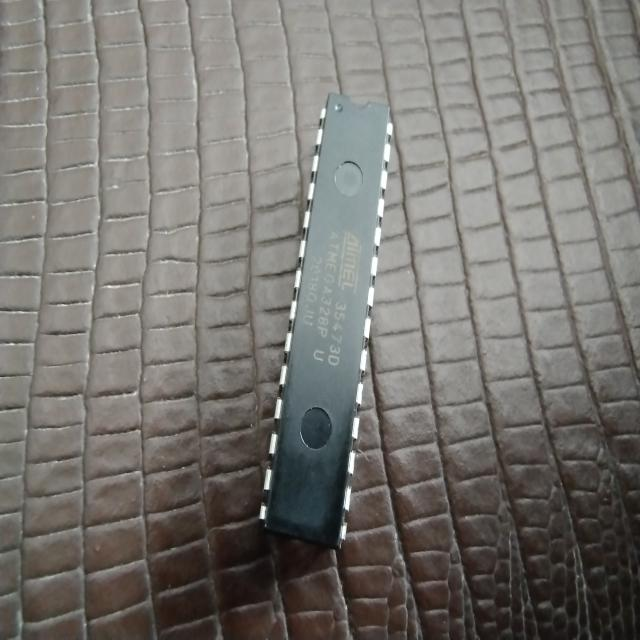atmega: (257, 90, 395, 552)
